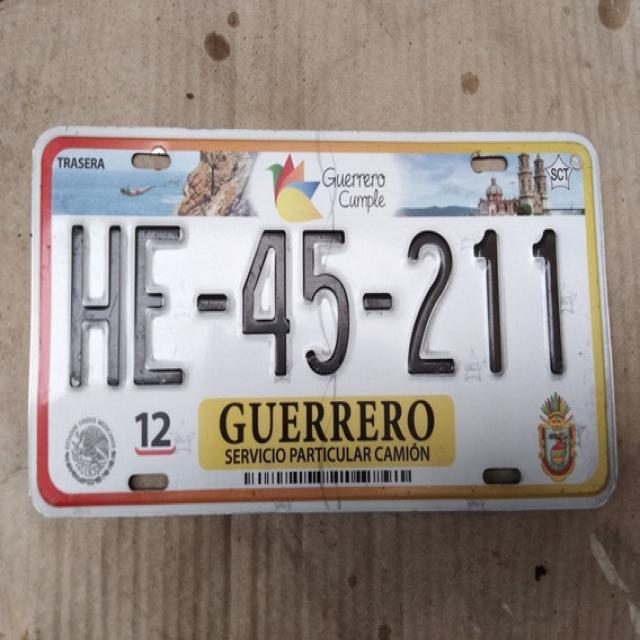placa: (48, 212, 593, 392)
